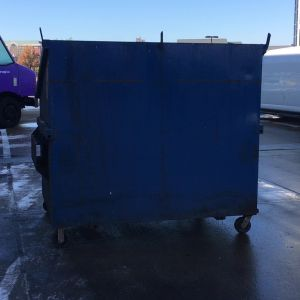Dumpster: (28, 25, 273, 248)
